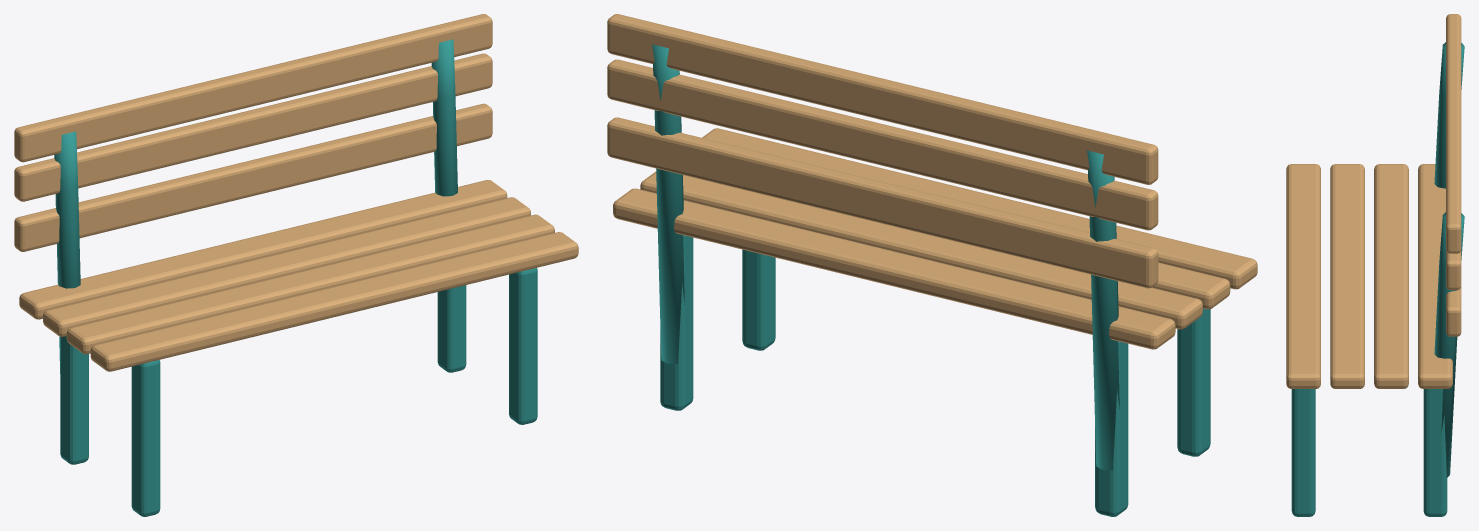
File: bench.glb
3 renders of one model, left to right at view 1: azimuth 30°, elevation 25°; view 2: azimuth 150°, elevation 25°; view 3: azimuth 270°, elevation 25°, orthographic. The views are drawn at different scales.
Visible parts, largest first — view 1: GEO-bench; view 2: GEO-bench; view 3: GEO-bench.
Part boxes in pixels (<box>): GEO-bench: <box>14,14,578,516</box>; GEO-bench: <box>607,14,1257,516</box>; GEO-bench: <box>1286,14,1464,516</box>.
Size of the model in its own units: 1.38 by 0.934 by 0.4874.
